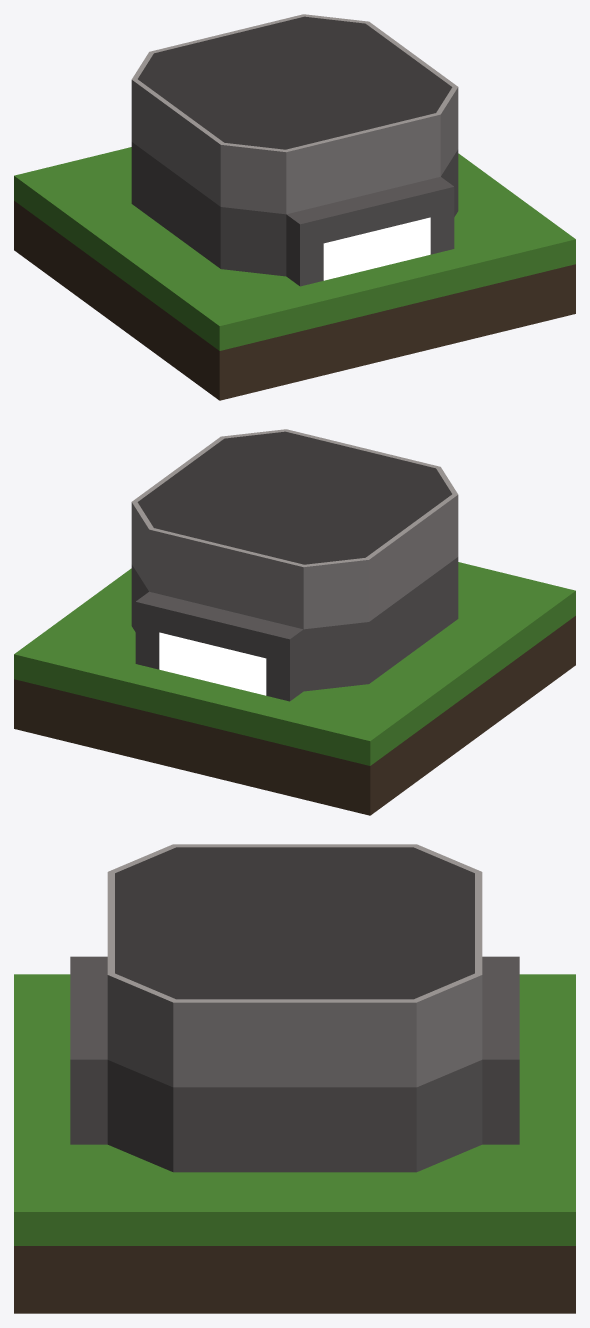
Rendered from tiles-skyscraper-tiny.glb.
3 views of the same model, one above another, from view 1: azimuth 30°, elevation 25°; view 2: azimuth 150°, elevation 25°; view 3: azimuth 270°, elevation 25° (orthographic). The views are drawn at different scales.
Parts seen in each view (by area): view 1: skyscraper-tiny; view 2: skyscraper-tiny; view 3: skyscraper-tiny.
Part boxes in pixels (x1,y1,x2,y2): skyscraper-tiny: (14, 14, 575, 400); skyscraper-tiny: (14, 429, 575, 815); skyscraper-tiny: (14, 844, 575, 1313).
Bounding box in the file's own units: 30 × 16 × 30.
